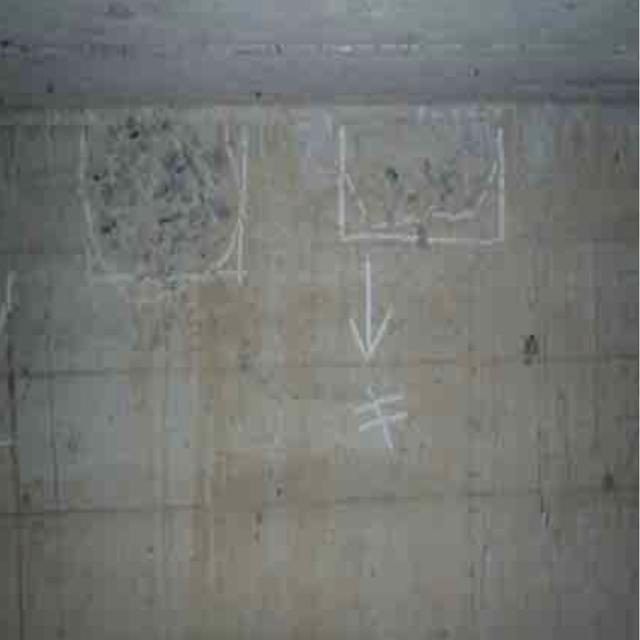spalling: (80, 107, 243, 290), (329, 91, 517, 233)
